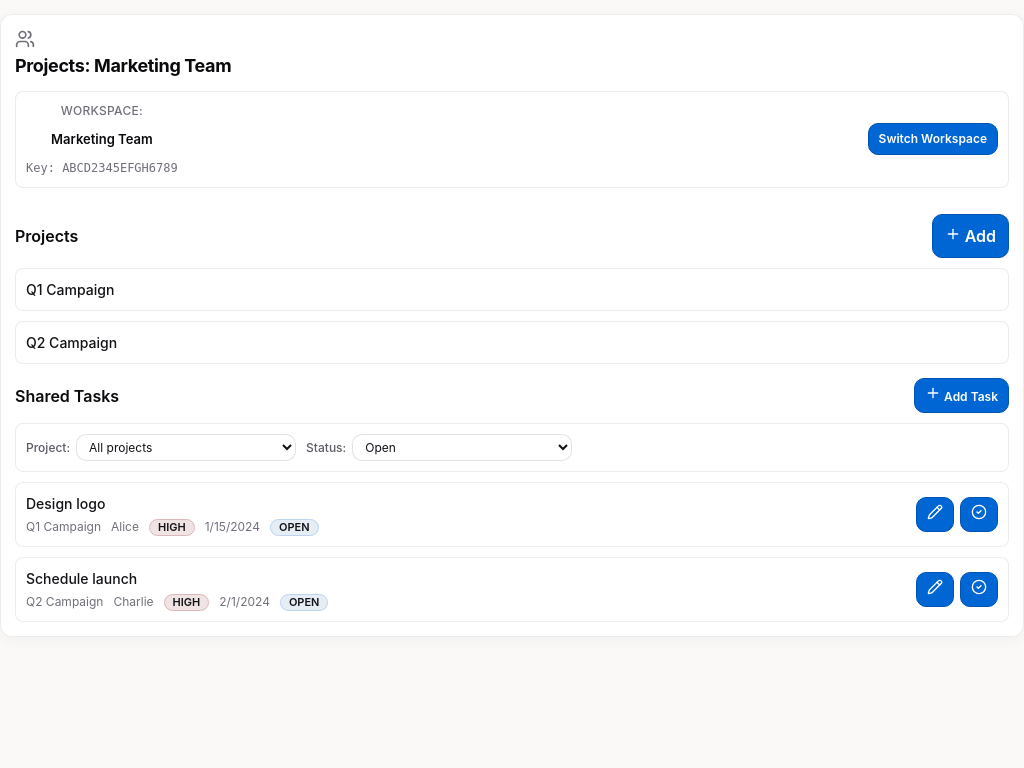
Test: ProjectsPanel › Task board filters › status filter Done shows done tasks
Select "Done" in the dropdown labelled "Status:": [462, 448] box x1=352 y1=434 x2=572 y2=461
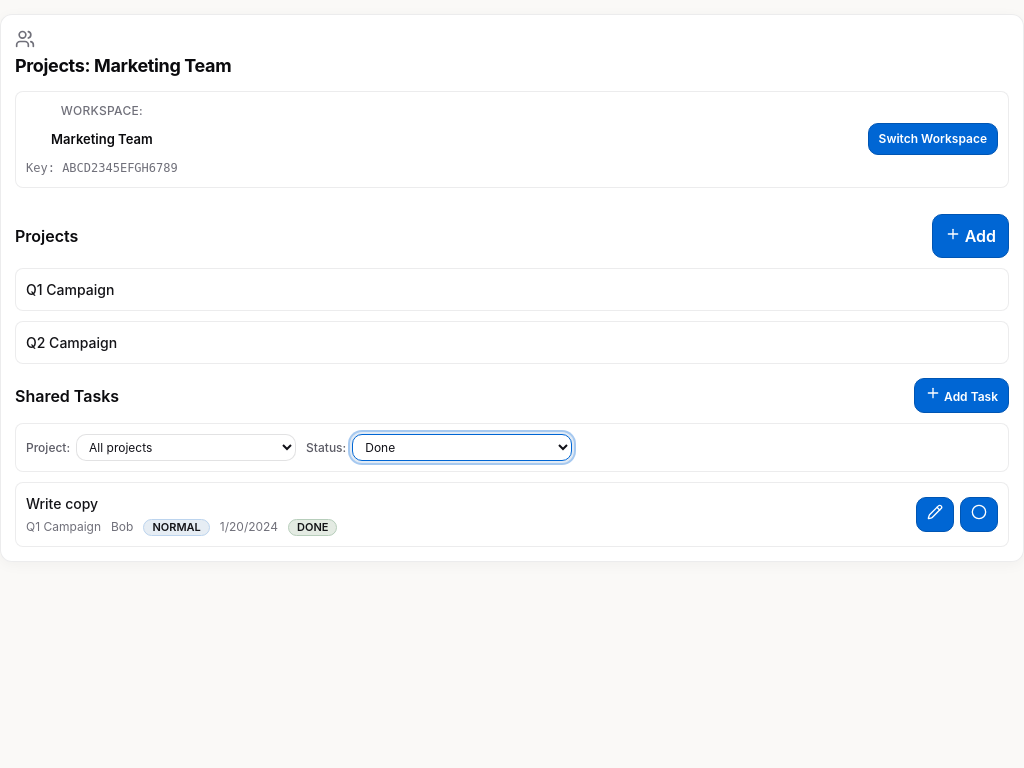
Result: the text "Design logo" is gone
Result: the text "Schedule launch" is gone
Result: the text "Write copy" is shown at x1=26 y1=495 x2=98 y2=512
